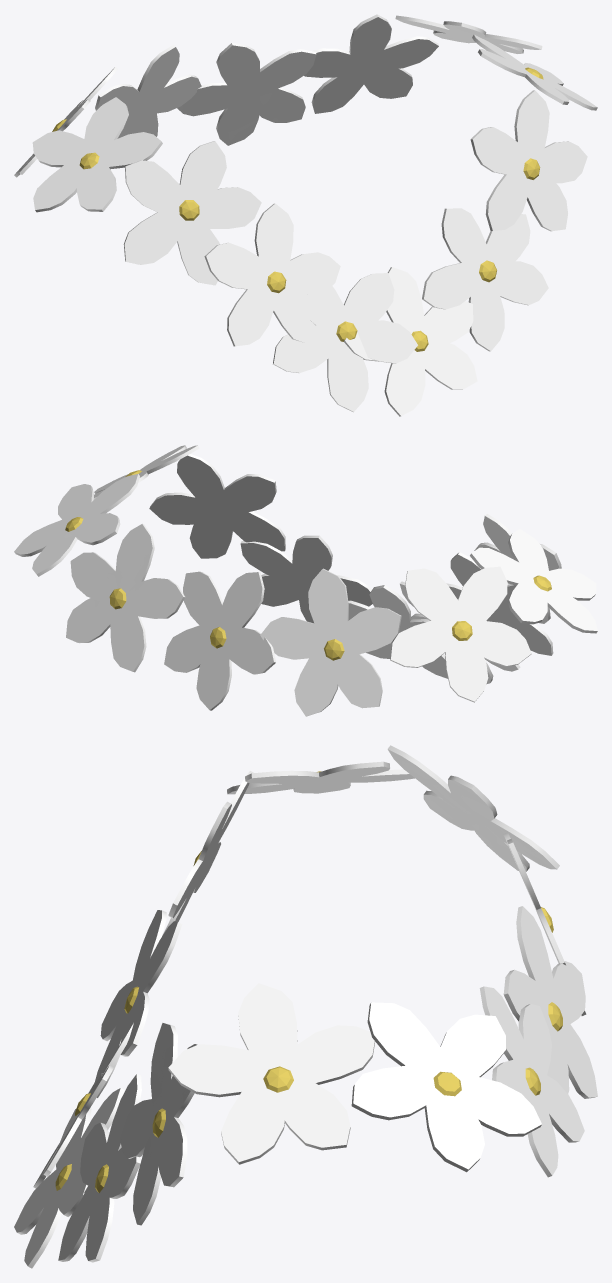
File: corps_fleur.fbx
The picture shows the model from 3 angles, top to bottom: view 1: azimuth 30°, elevation 25°; view 2: azimuth 150°, elevation 25°; view 3: azimuth 270°, elevation 25°; orthographic projection. The views are drawn at different scales.
Visible parts, largest first — view 1: Plane008; view 2: Plane008; view 3: Plane008.
Boxes of the visible parts, <box> form: Plane008: <box>14,14,597,416</box>; Plane008: <box>14,445,597,716</box>; Plane008: <box>14,745,597,1268</box>.
Bounding box in the file's own units: 50.6 × 23.5 × 34.18.
